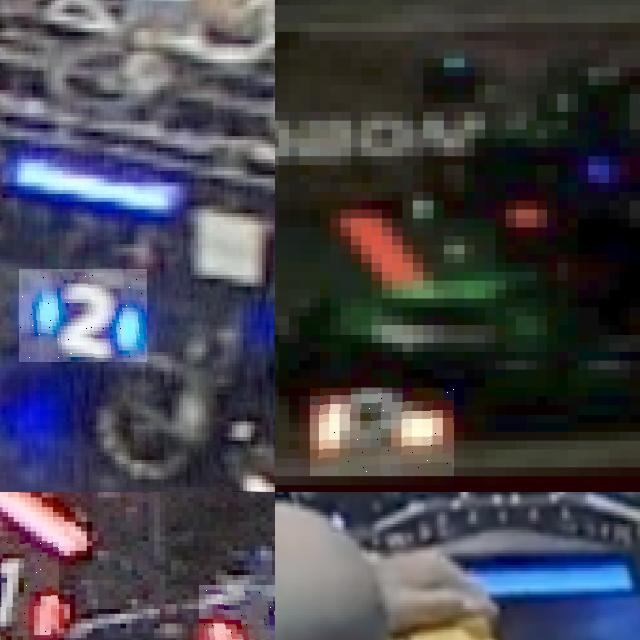B2: (19, 269, 147, 362)
R1: (0, 541, 58, 640), (199, 584, 275, 640)
Rs: (310, 388, 454, 476)
